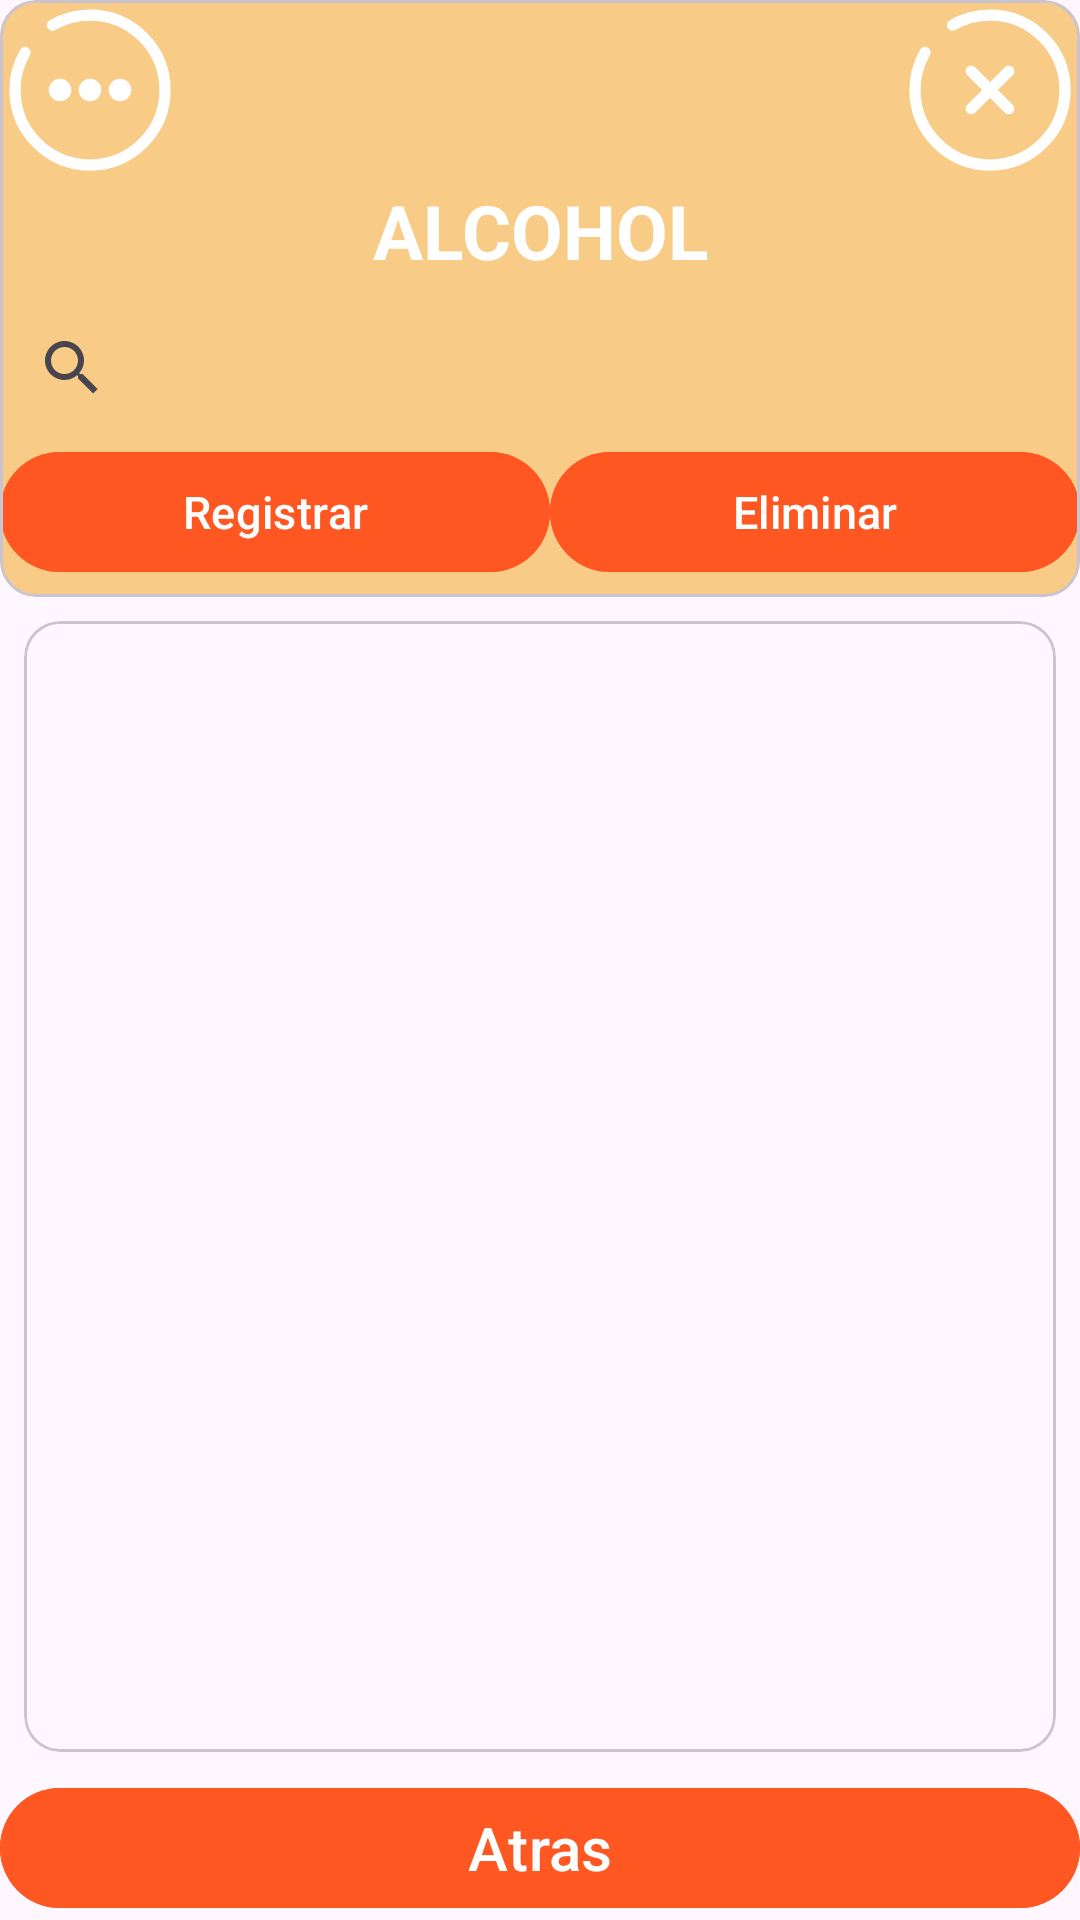

Point at icon controls on the screen. Image size 1080×1920, points as point (x, y).
close: point (990, 90)
menu: point (90, 90)
